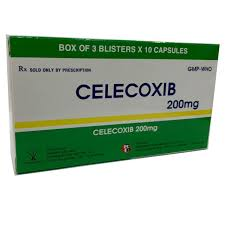Celecoxip: (71, 84, 176, 98), (92, 124, 134, 135)
